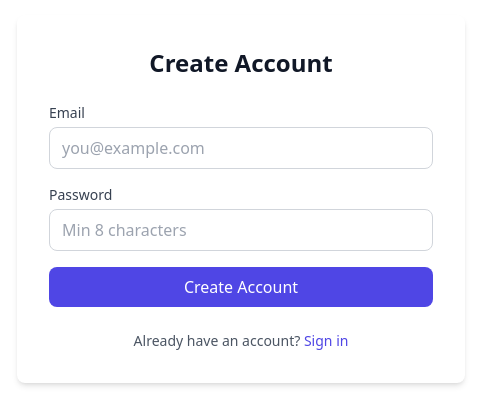
Test: Register Page › shows validation error for short password
This screenshot has width=483, height=416.
Type "short" into the password field labelled "Password". click: (241, 230)
box: x1=49 y1=209 x2=433 y2=251
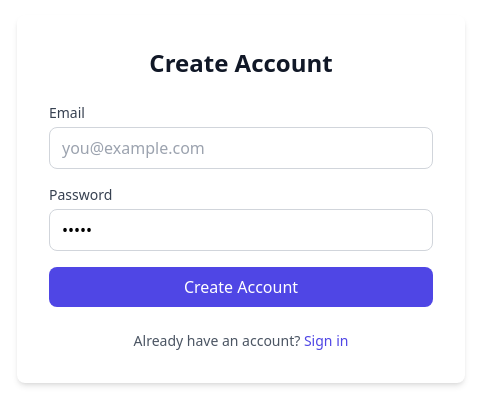
Leave the password field labelled "Password", box x1=49 y1=209 x2=433 y2=251
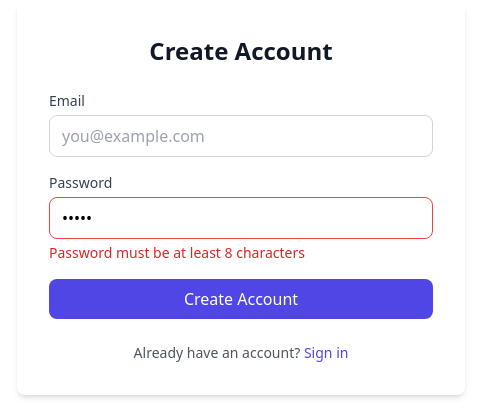
Check: the text "Password must be at least 8 characters" is shown, box x1=49 y1=243 x2=305 y2=262
